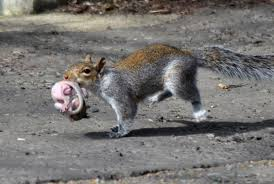squirrel: (64, 42, 274, 138)
